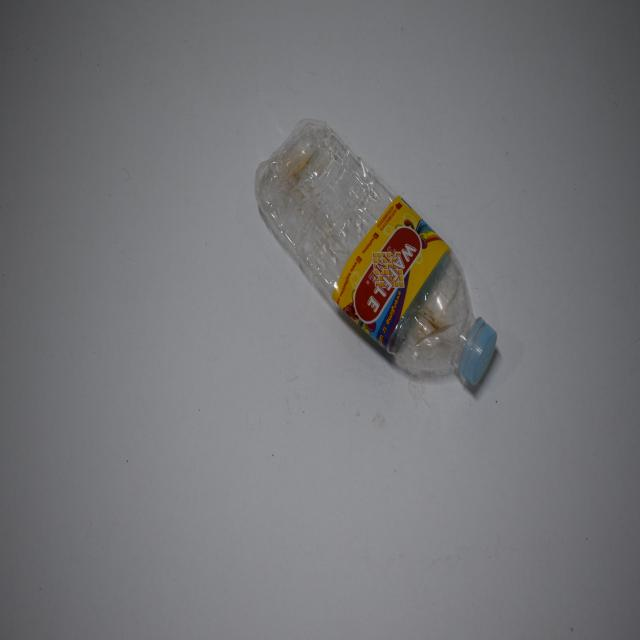plastic: (250, 109, 503, 400)
